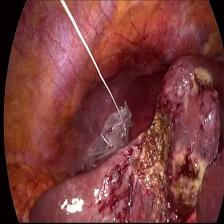Specimen Bag: (76, 93, 139, 179)
